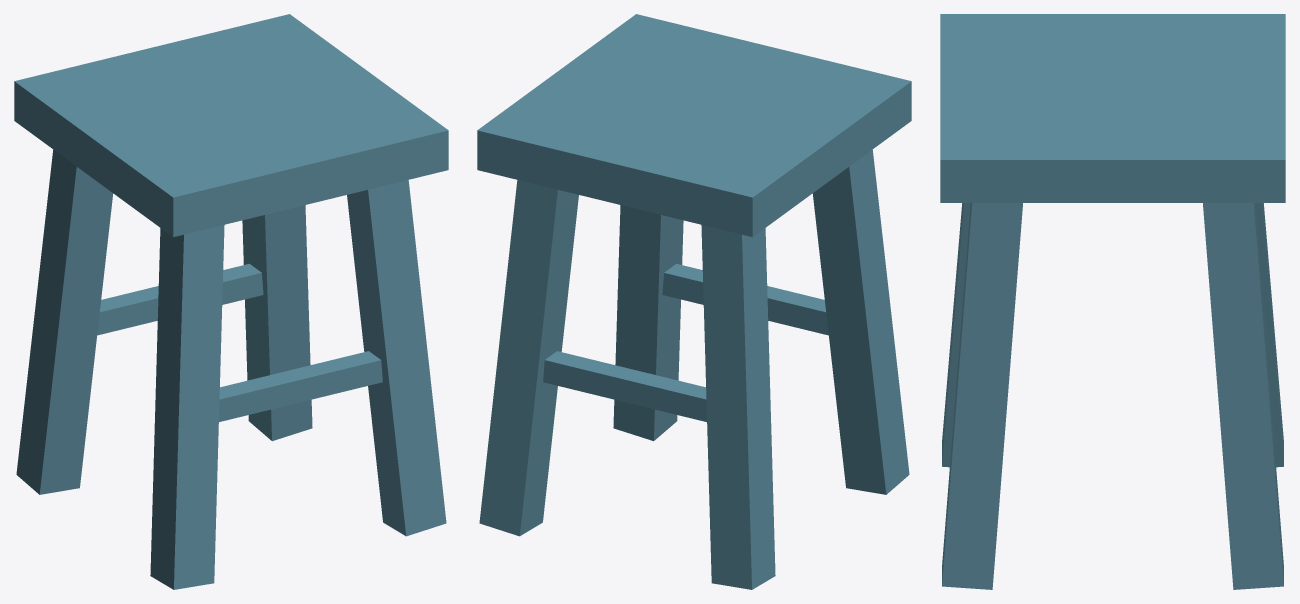
File: PlasticStoolHigh.glb
3 views of the same model, side by side, from view 1: azimuth 30°, elevation 25°; view 2: azimuth 150°, elevation 25°; view 3: azimuth 270°, elevation 25° (orthographic). The views are drawn at different scales.
Visible parts, largest first — view 1: ST_PlasticStoolHigh_ST_plastic_blue.001; view 2: ST_PlasticStoolHigh_ST_plastic_blue.001; view 3: ST_PlasticStoolHigh_ST_plastic_blue.001.
Part boxes in pixels (x1,y1,x2,y2): ST_PlasticStoolHigh_ST_plastic_blue.001: [14, 14, 448, 589]; ST_PlasticStoolHigh_ST_plastic_blue.001: [477, 14, 911, 589]; ST_PlasticStoolHigh_ST_plastic_blue.001: [940, 14, 1285, 589].
Bounding box in the file's own units: 0.32 × 0.4435 × 0.32.
